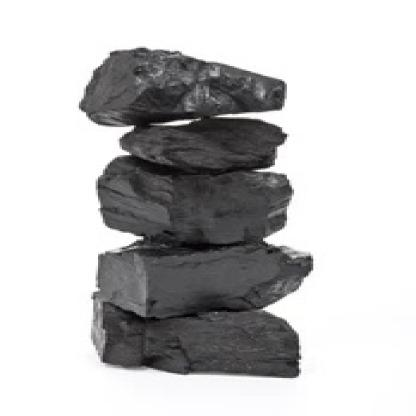Sedimentary_coal: (84, 282, 313, 376), (57, 33, 294, 117), (57, 239, 299, 318), (91, 152, 299, 236), (129, 122, 285, 162)
